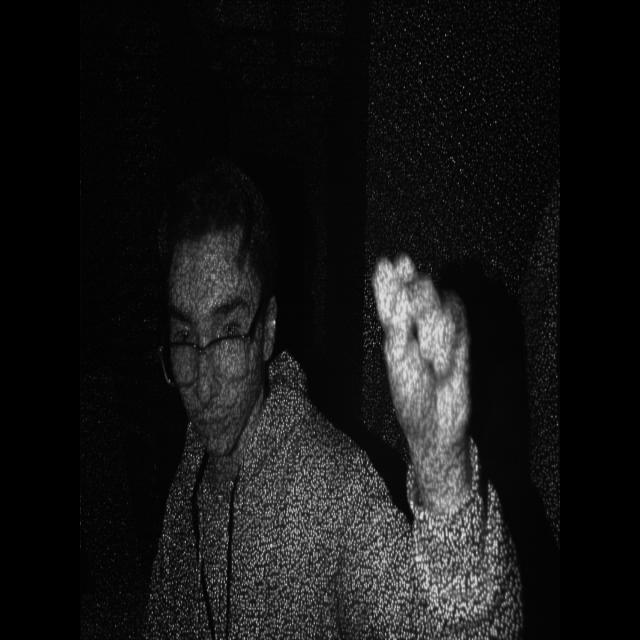S: (359, 237, 495, 458)
